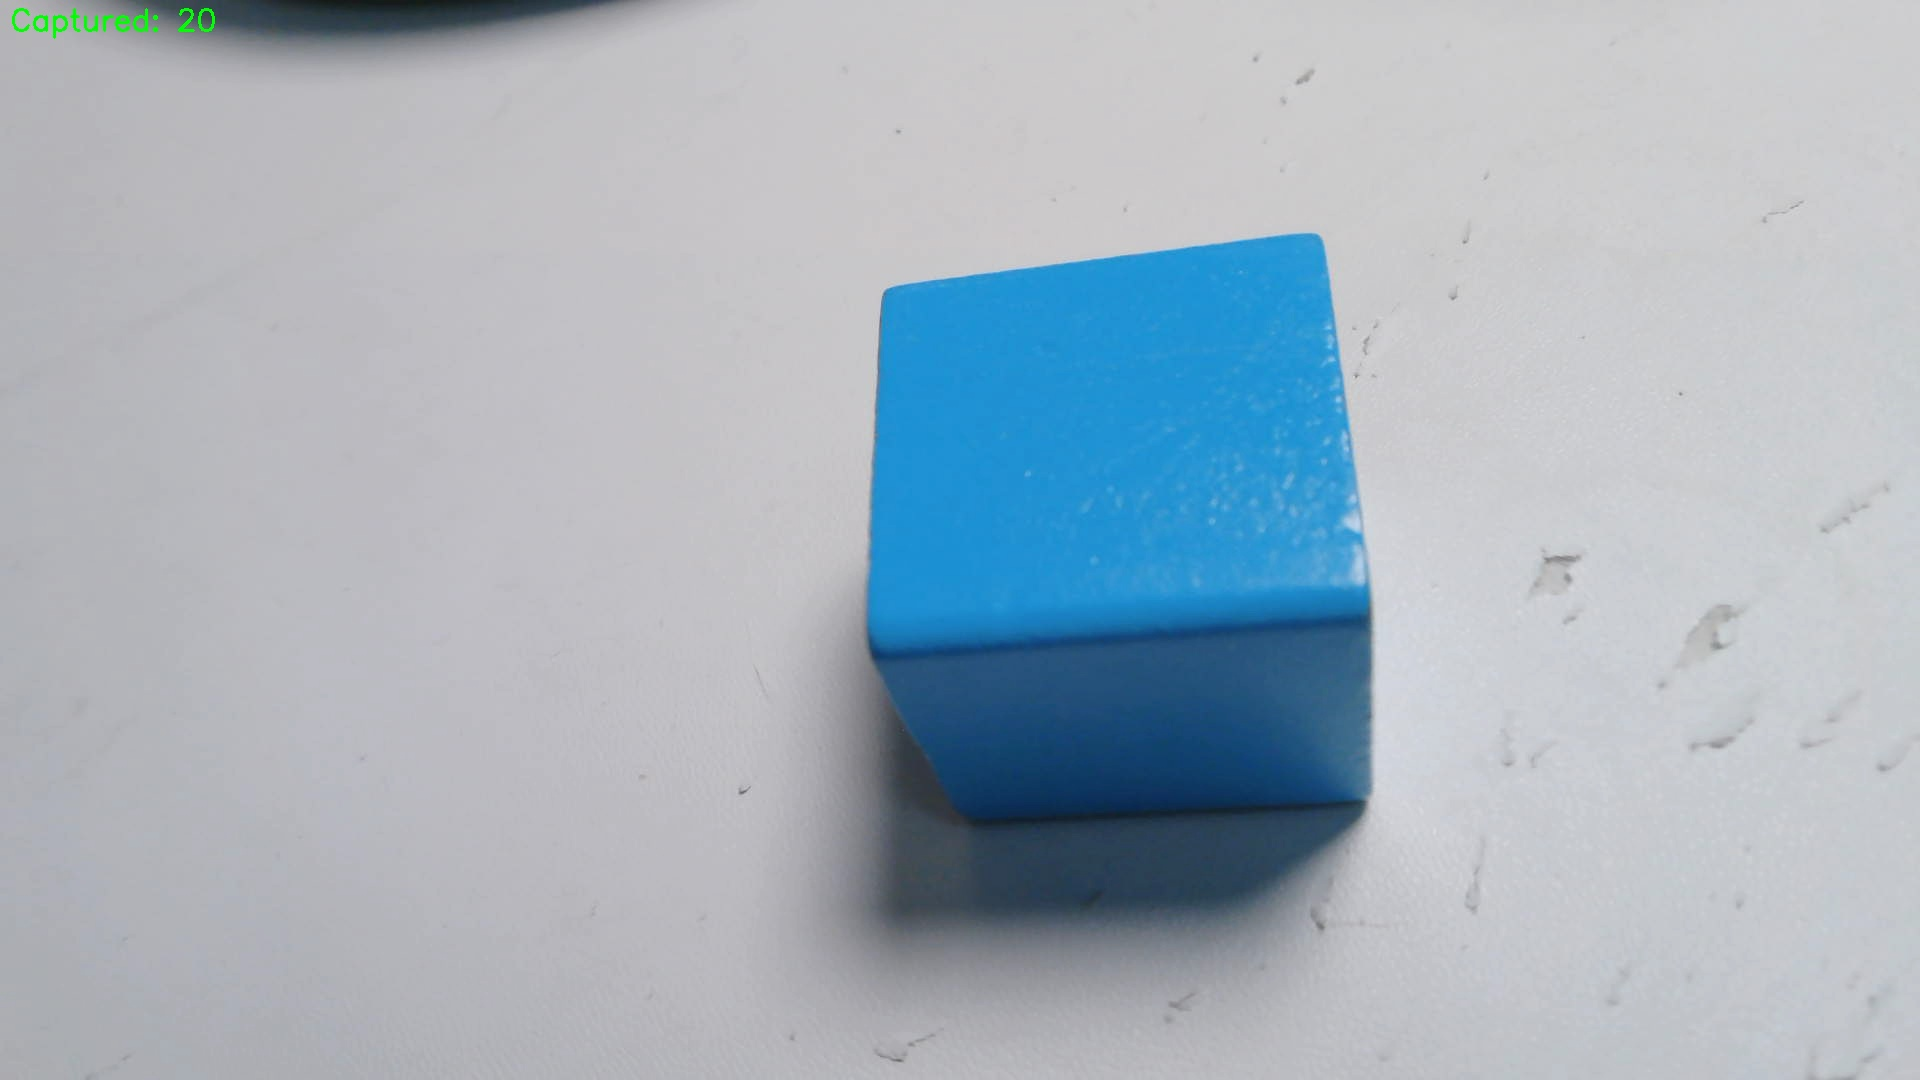blue: (866, 231, 1378, 822)
